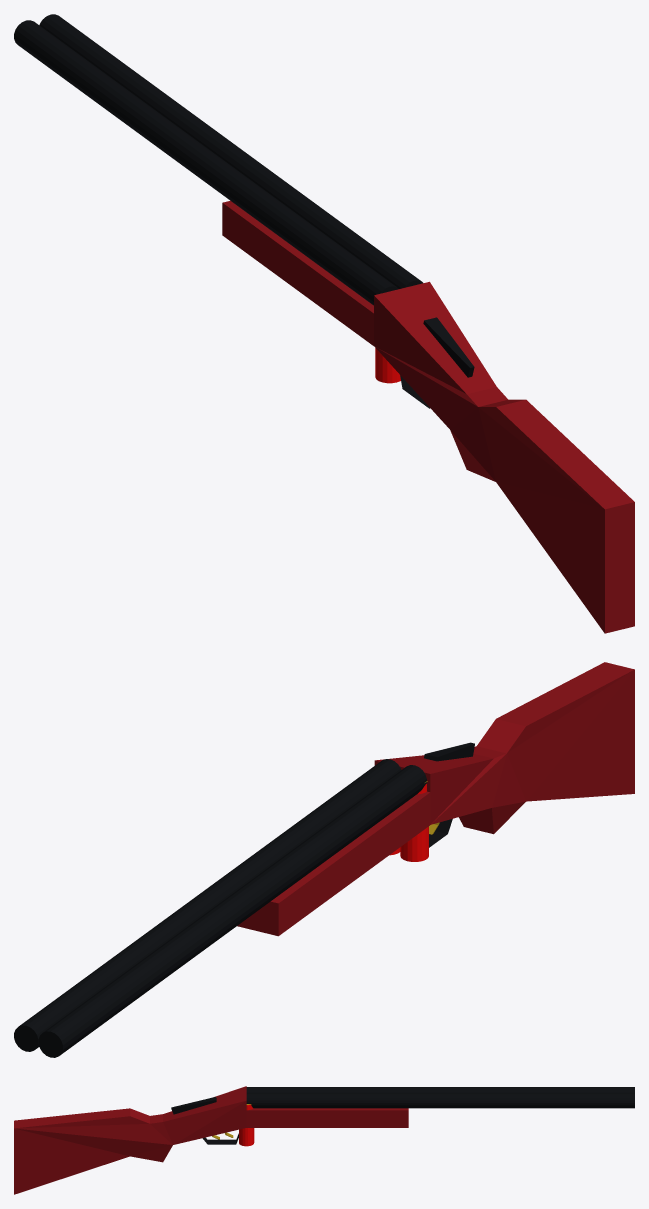
File: double-barreled-shotgun0001.obj
3 views of the same model, one above another, from view 1: azimuth 30°, elevation 25°; view 2: azimuth 150°, elevation 25°; view 3: azimuth 270°, elevation 25° (orthographic). The views are drawn at different scales.
Visible parts, largest first — view 1: rearStock, leftBarrel, rightBarrel, foreGrip, topLatch; view 2: rearStock, leftBarrel, rightBarrel, foreGrip, shellPlastic, topLatch; view 3: rearStock, rightBarrel, foreGrip, leftBarrel, topLatch, shellPlastic2, triggerGuard.
Part boxes in pixels (bbox=[...]): rearStock: bbox=[374, 281, 634, 633]; leftBarrel: bbox=[14, 20, 398, 305]; rightBarrel: bbox=[39, 14, 423, 288]; foreGrip: bbox=[222, 200, 373, 345]; topLatch: bbox=[423, 317, 474, 377]; rearStock: bbox=[374, 662, 634, 834]; leftBarrel: bbox=[38, 765, 426, 1057]; rightBarrel: bbox=[14, 759, 401, 1051]; foreGrip: bbox=[237, 791, 430, 936]; shellPlastic: bbox=[400, 783, 428, 861]; topLatch: bbox=[424, 742, 474, 761]; rearStock: bbox=[14, 1086, 246, 1194]; rightBarrel: bbox=[246, 1093, 634, 1108]; foreGrip: bbox=[246, 1108, 408, 1127]; leftBarrel: bbox=[246, 1087, 634, 1093]; topLatch: bbox=[171, 1097, 216, 1114]; shellPlastic2: bbox=[239, 1104, 254, 1146]; triggerGuard: bbox=[202, 1133, 238, 1144].
Size of the model in its own units: 0.2057 by 0.658 by 3.7.
